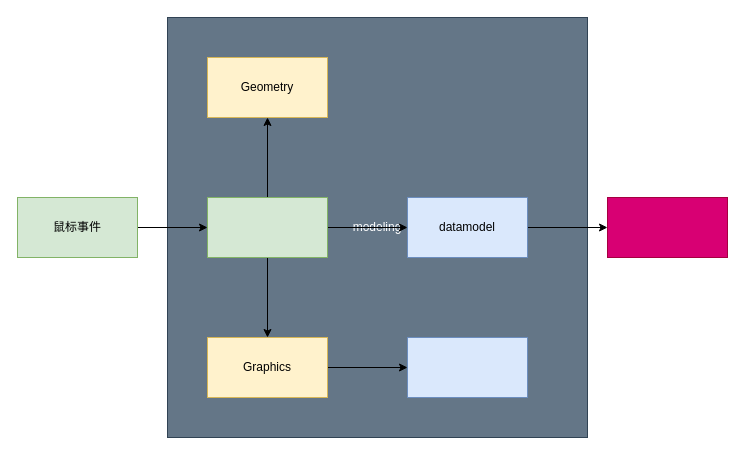
Image size: 745x455. Some labels were removed from this diagram. Here are the shapes that lost their labels. From the top down, the centre of each, then its label:
the point at 267,227: 事件处理函数 状态机
the point at 667,227: Database
the point at 467,367: visualmodel
